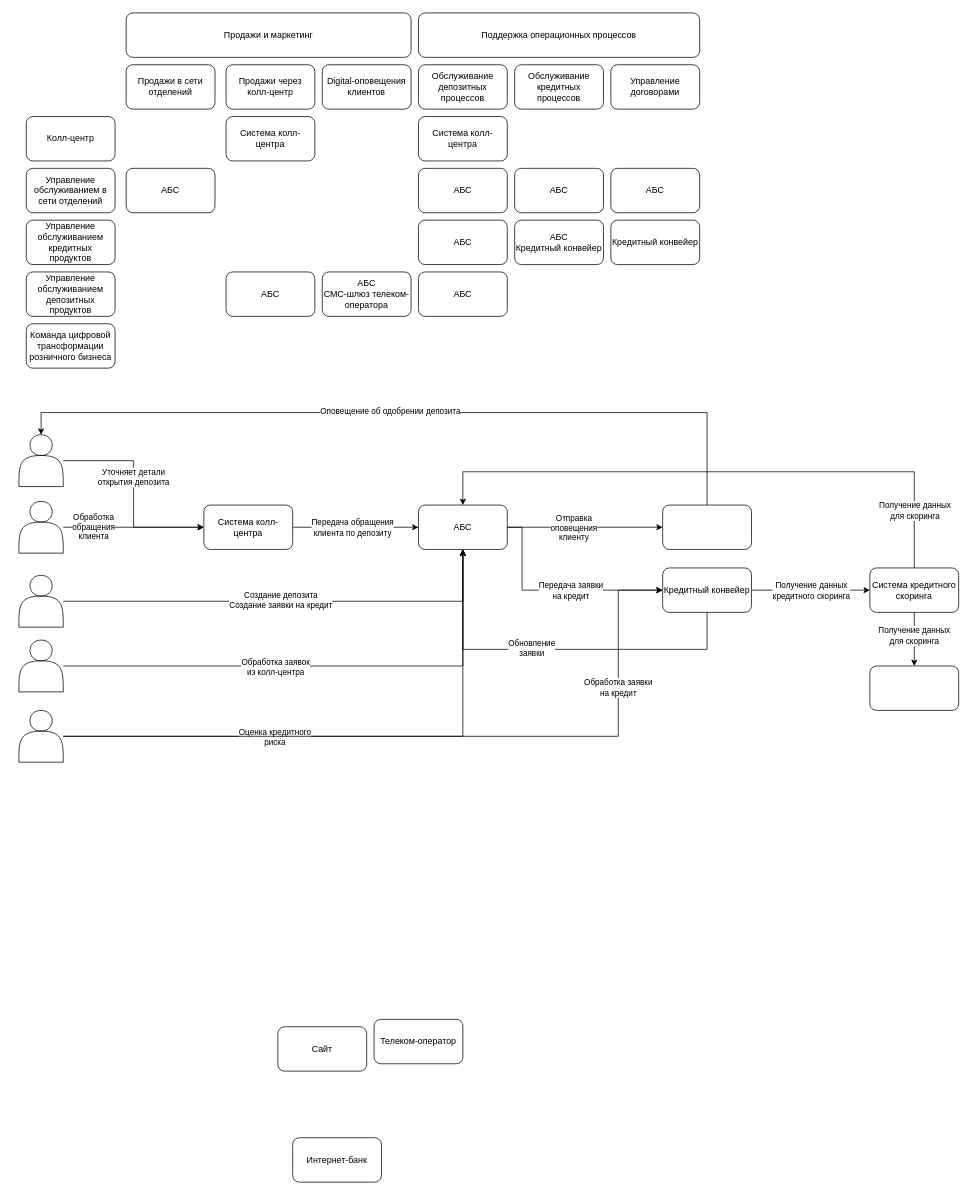
Image size: 972x1195. Some labels were removed from this diagram. Each missing label, with the box of its shape:
Бюро кредитных историй: (869, 665, 959, 710)
Клиент: (18, 434, 63, 487)
СМС-шлюз телеком-оператора: (662, 504, 751, 549)
Сотрудник бэк-офиса: (18, 639, 63, 692)
Сотрудник колл-центра: (18, 501, 63, 553)
Сотрудник отдела кредитования: (18, 710, 63, 762)
Сотрудник фронт-офиса: (18, 575, 63, 627)
